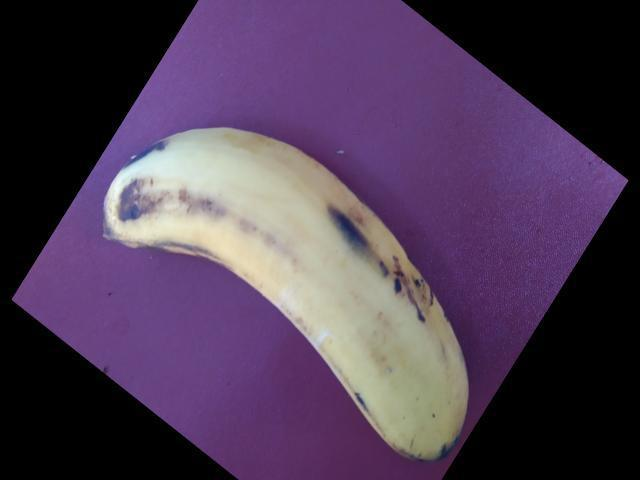ripe: (84, 103, 481, 479)
